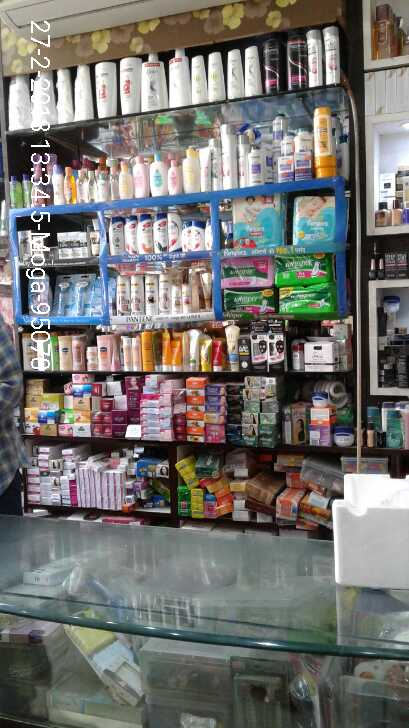venus: (52, 273, 75, 313), (29, 274, 52, 313), (75, 273, 93, 314), (93, 279, 114, 314)
